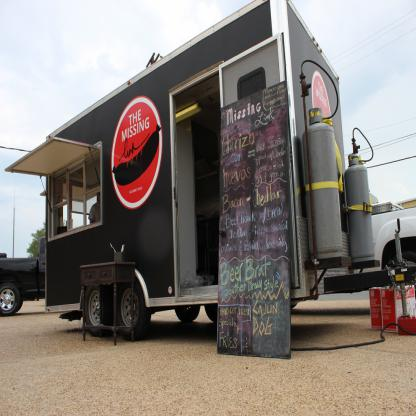Truck: (0, 236, 46, 315)
